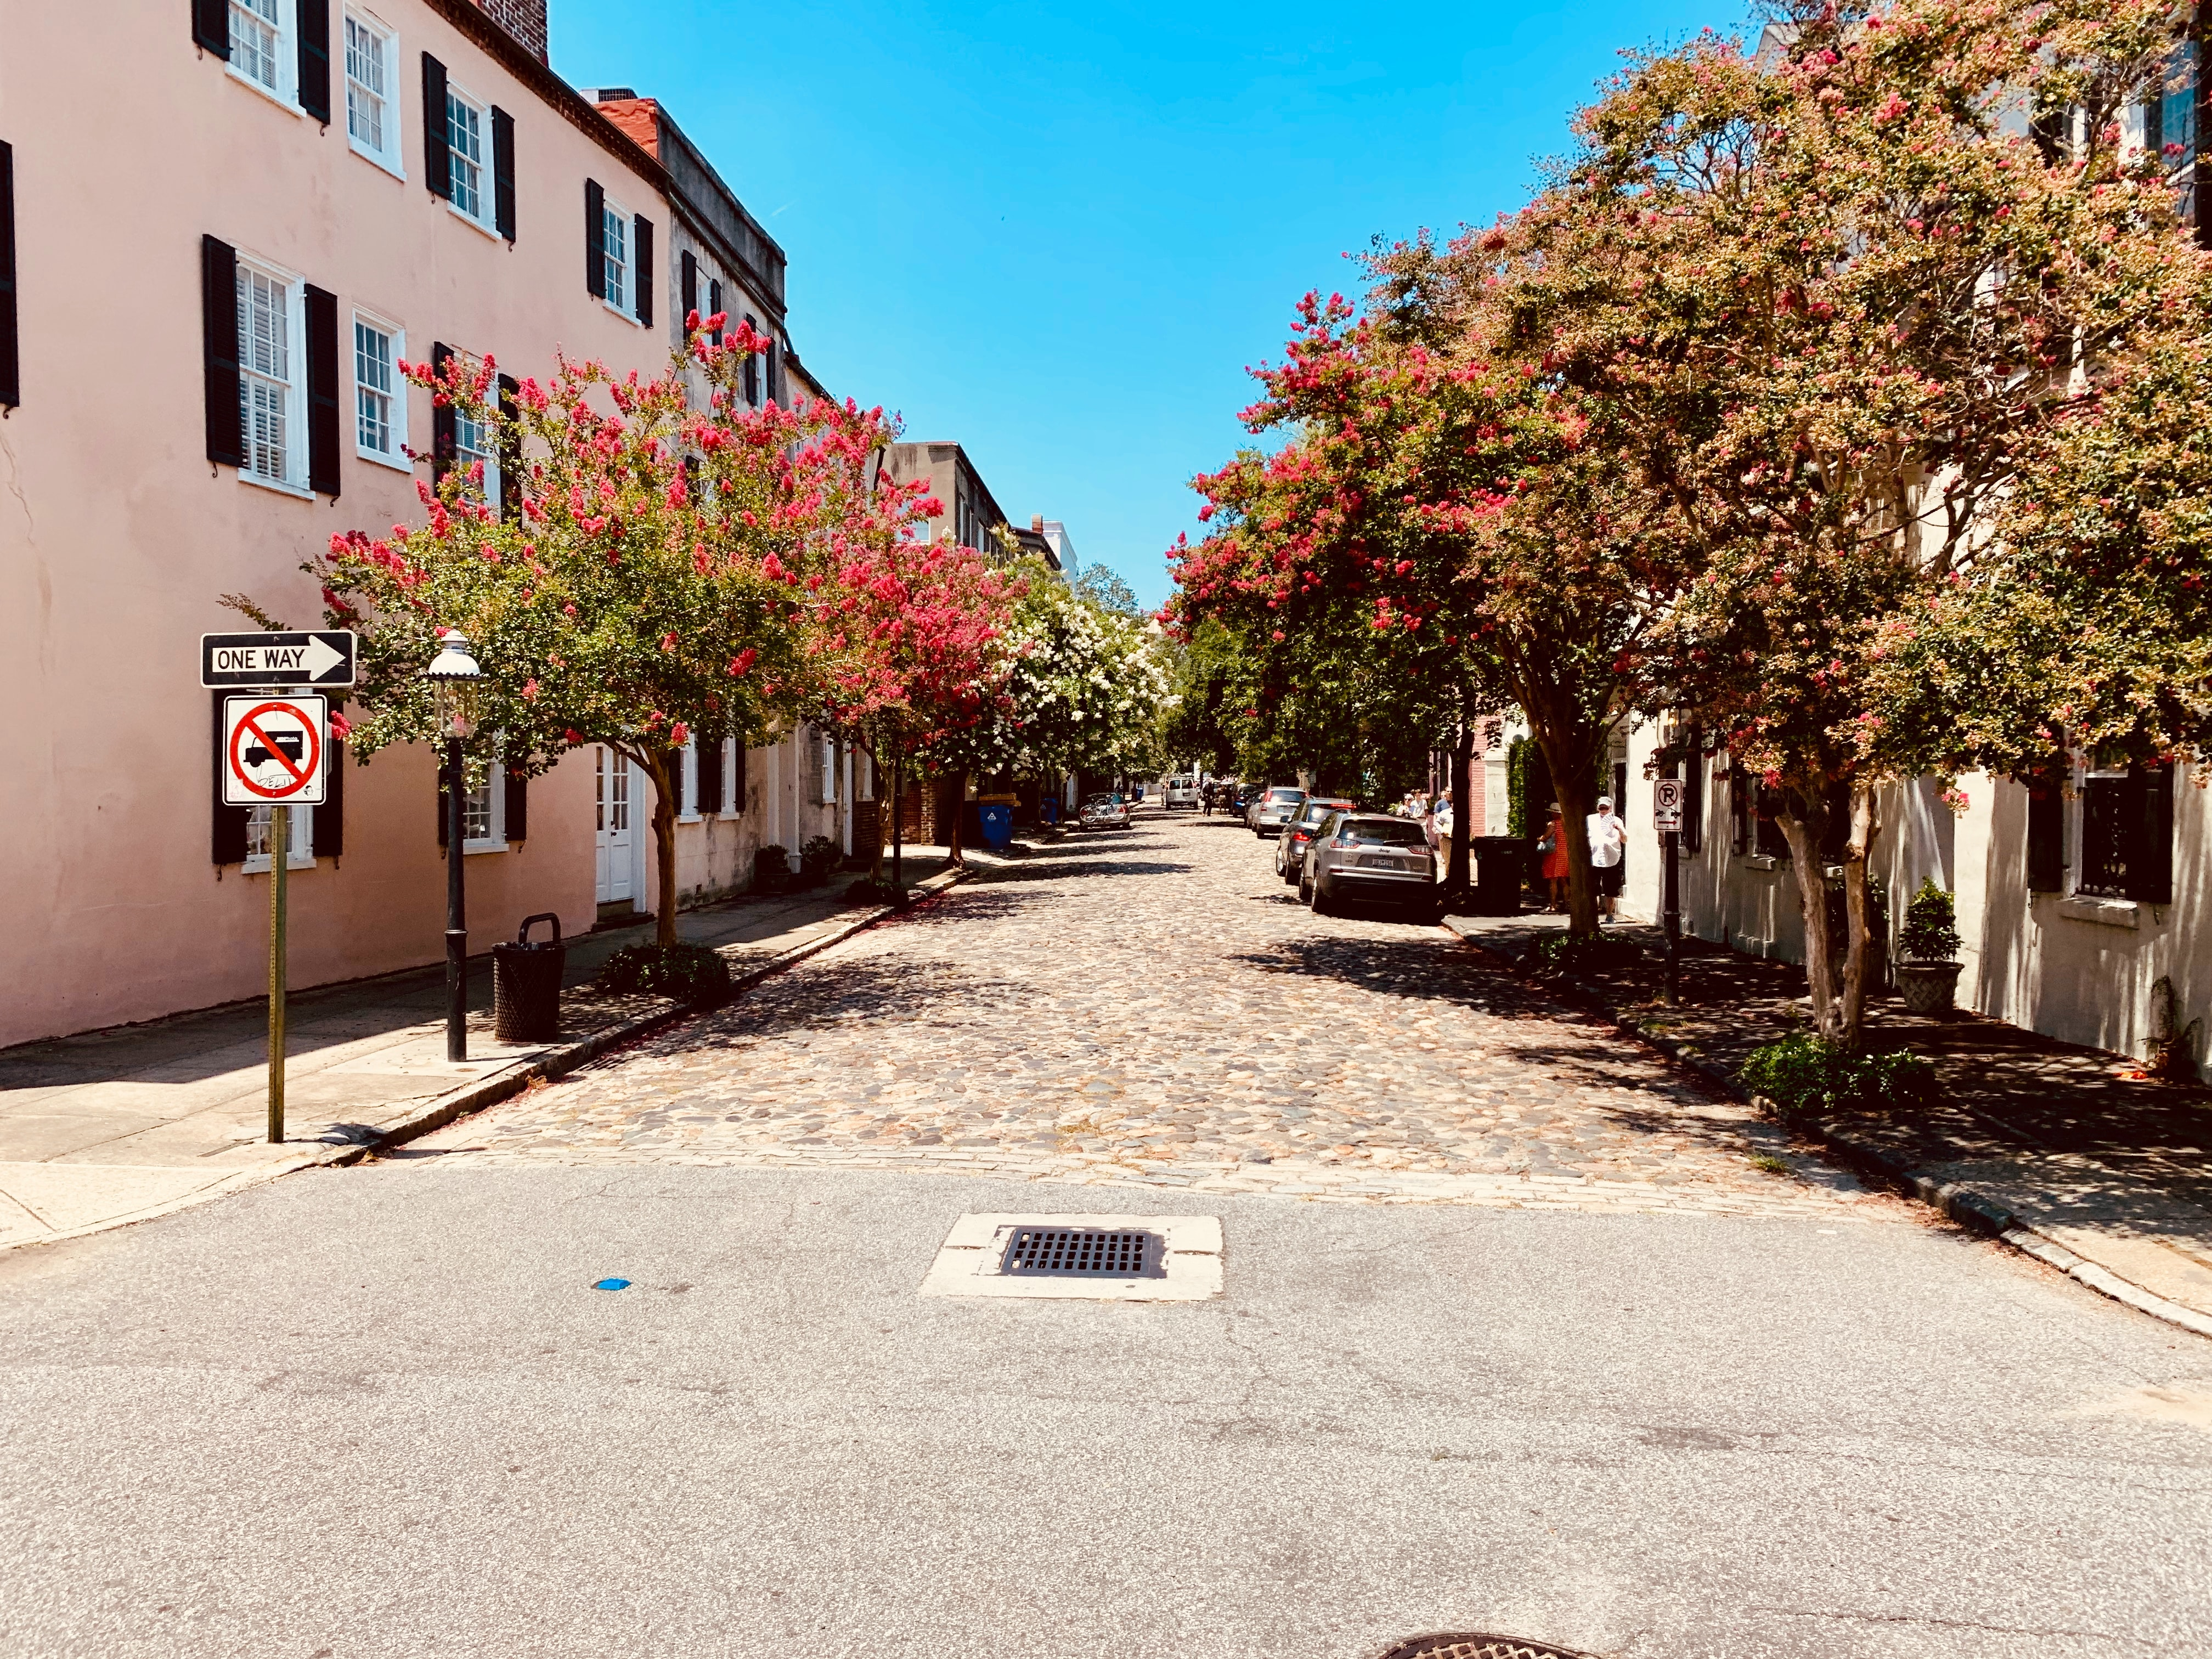tree: (1569, 2, 2212, 1046), (1352, 166, 1777, 969)
